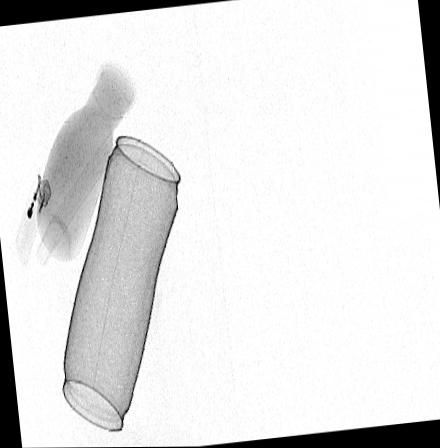Lighter: (13, 172, 53, 266)
